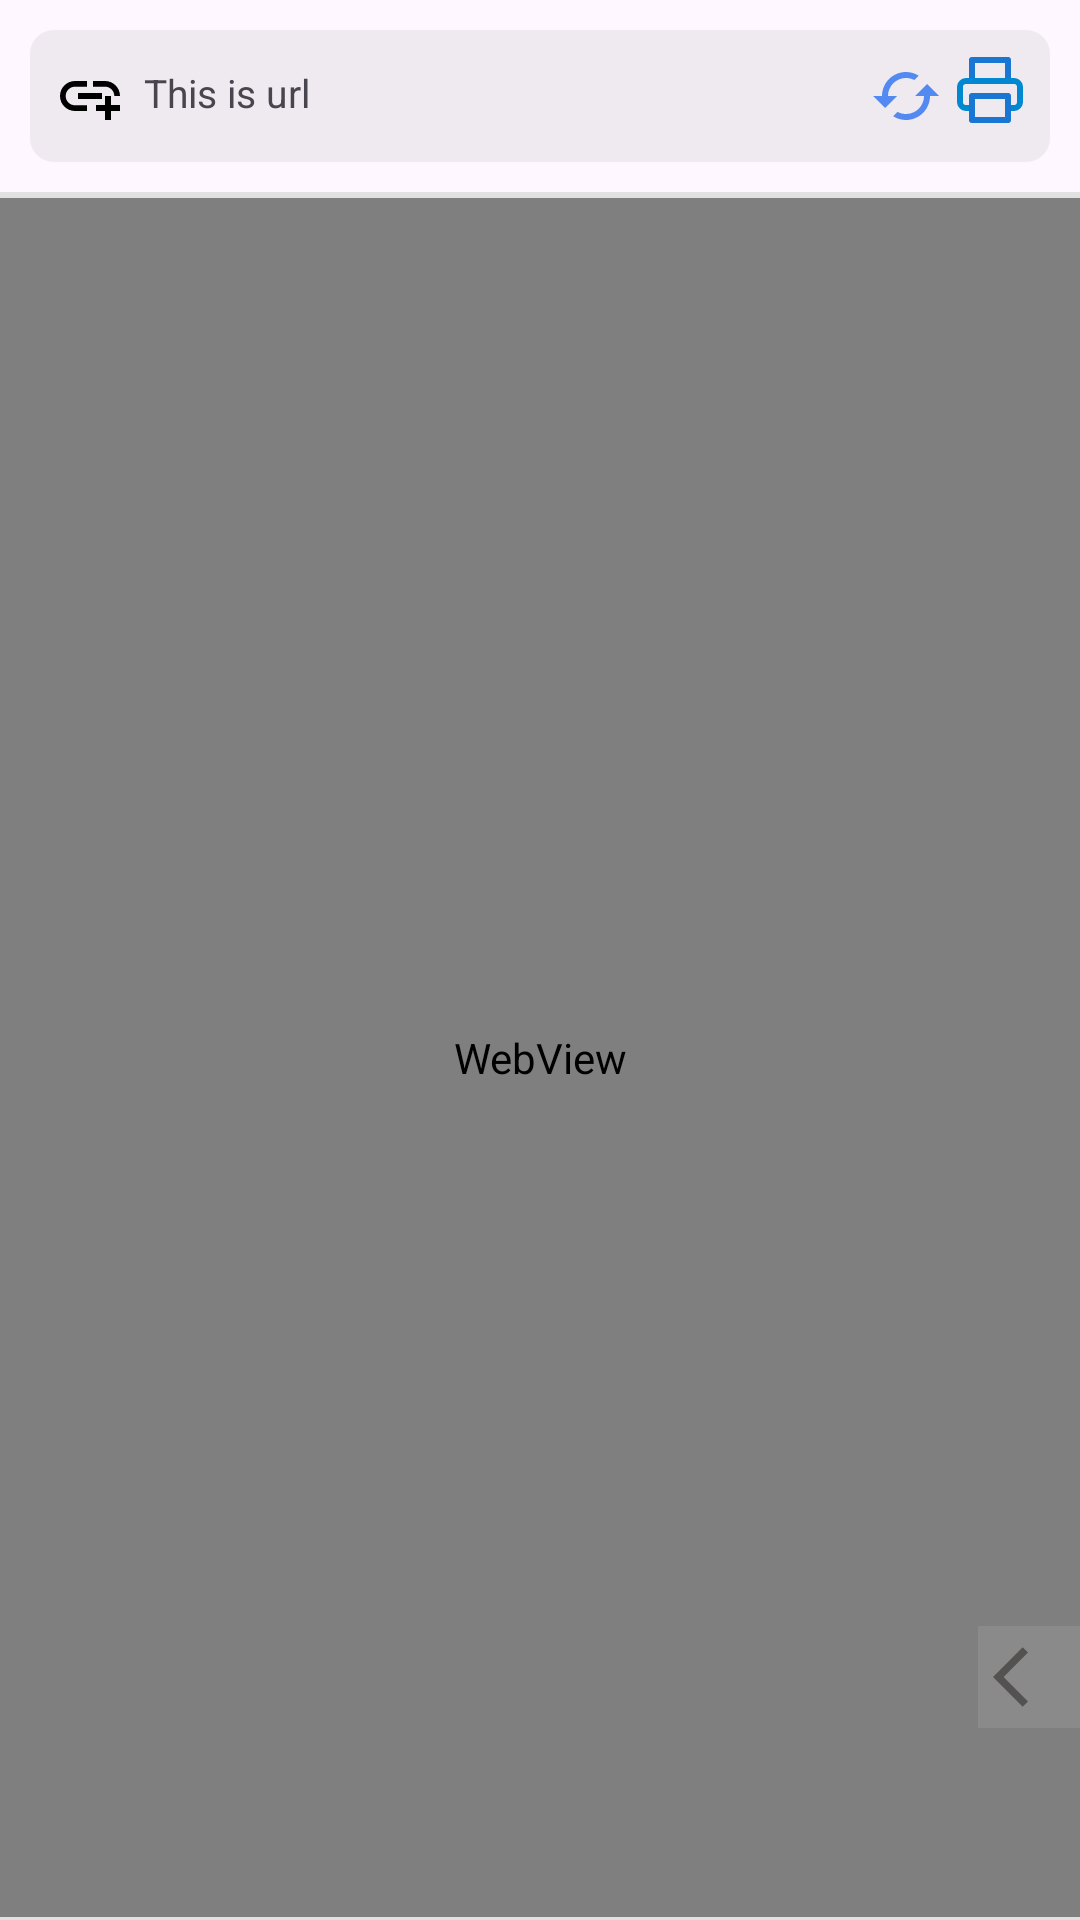

Icons on this 1080 × 1920 Android screen, each with its box as BBox(x1, y1, x2, y2):
add link: BBox(60, 81, 120, 120)
cached: BBox(873, 72, 939, 120)
printer: BBox(957, 57, 1023, 123)
